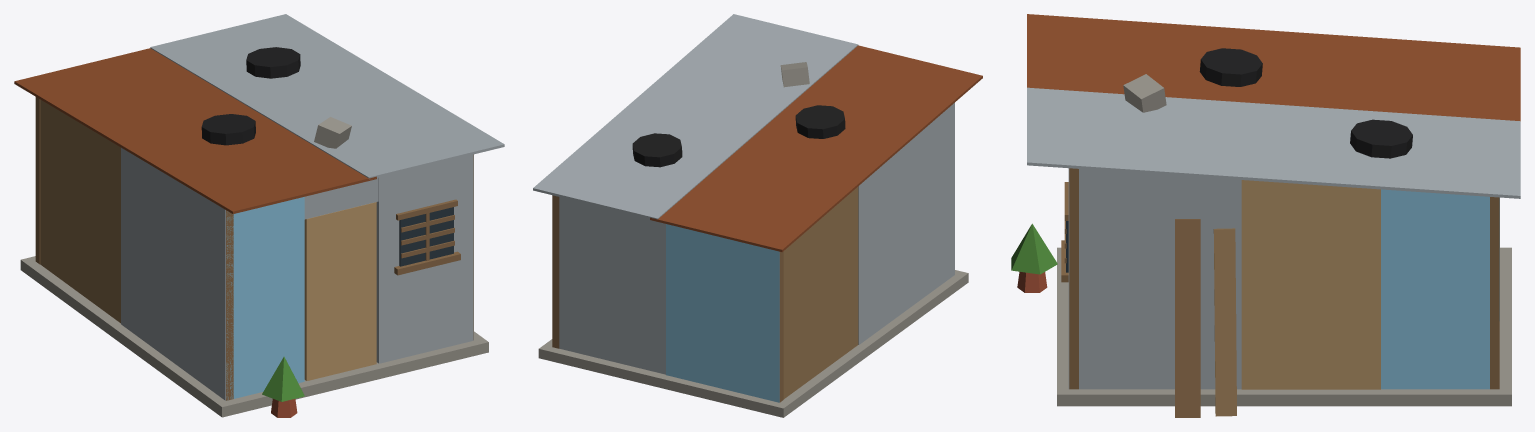
File: BAY_I_TinShack_T.glb
3 renders of one model, left to right at view 1: azimuth 30°, elevation 25°; view 2: azimuth 150°, elevation 25°; view 3: azimuth 270°, elevation 25°, orthographic. The views are drawn at different scales.
Parts seen in each view (by area): view 1: BAY_I_TinShack_T; view 2: BAY_I_TinShack_T; view 3: BAY_I_TinShack_T.
Boxes of the visible parts, left/top/right/bottom form: BAY_I_TinShack_T: left=14, top=14, right=504, bottom=417; BAY_I_TinShack_T: left=533, top=14, right=982, bottom=417; BAY_I_TinShack_T: left=1011, top=14, right=1520, bottom=417.
Size of the model in its own units: 3.57 by 2.68 by 4.74.
1 material, 1 textured.
